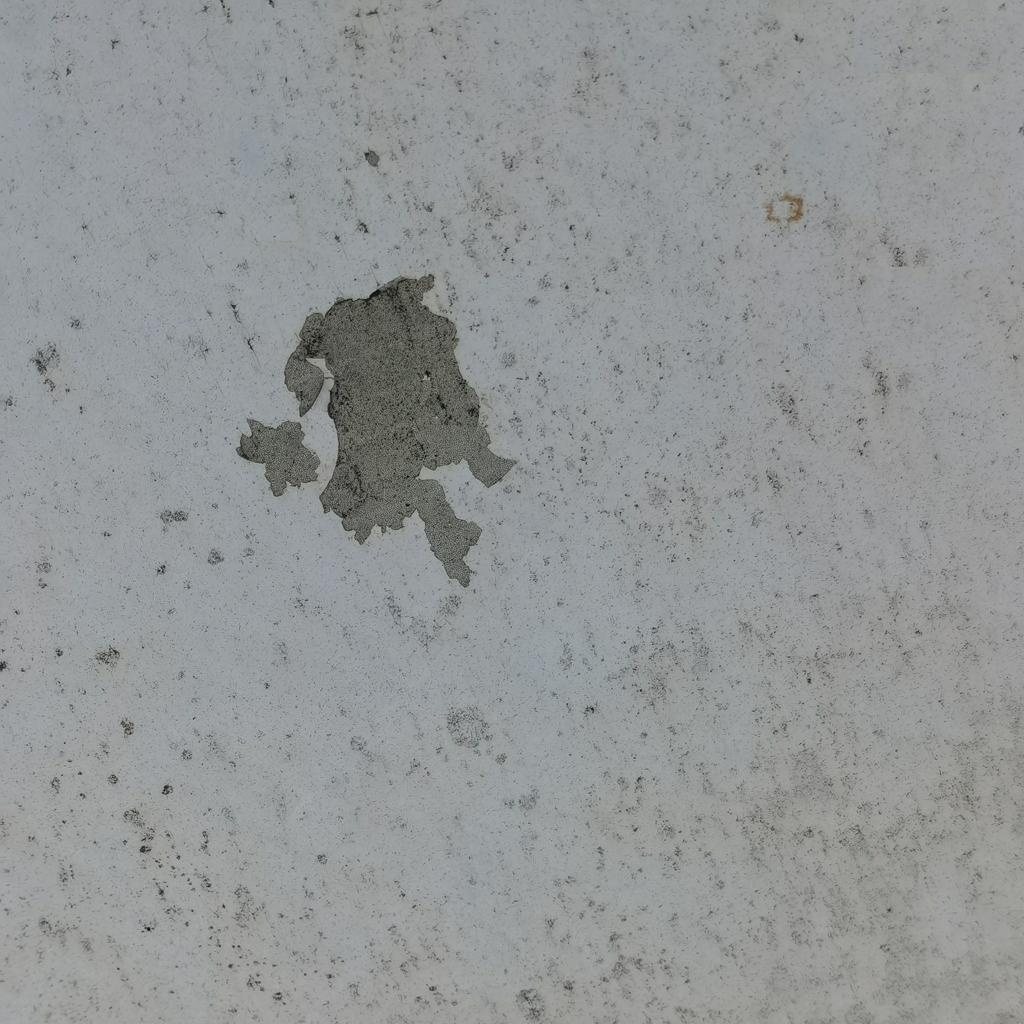surface_injure: (231, 274, 516, 592)
